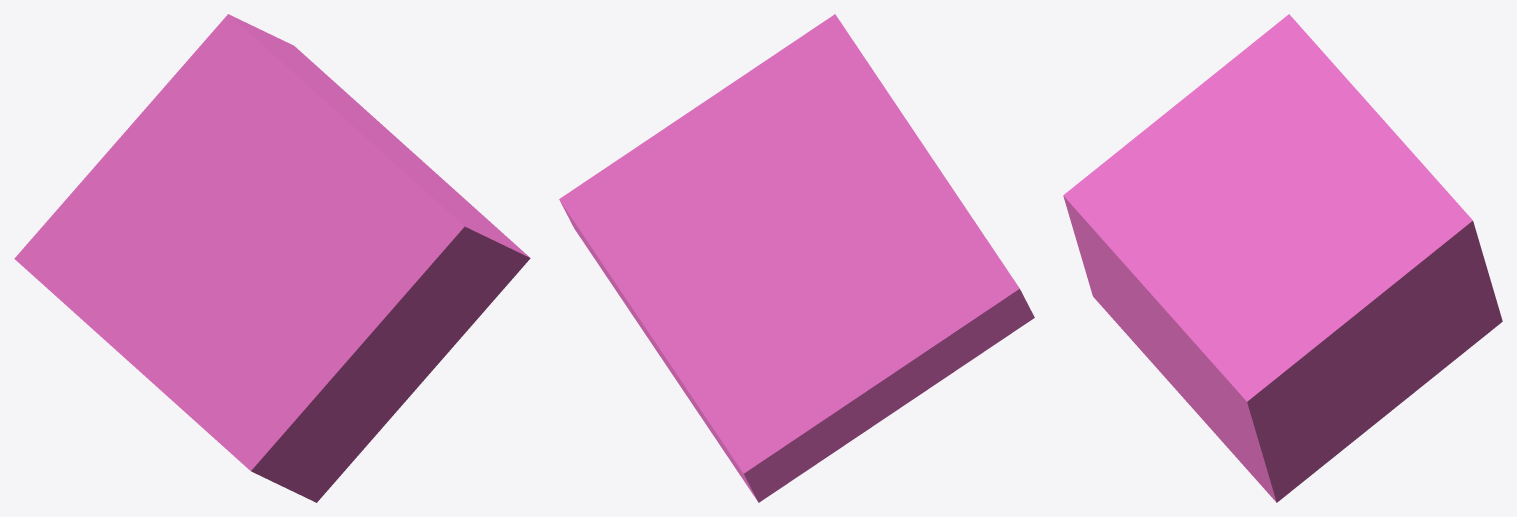
The model's file is InfoExpo_Ninfas.gltf.
3 views of the same model, side by side, from view 1: azimuth 30°, elevation 25°; view 2: azimuth 150°, elevation 25°; view 3: azimuth 270°, elevation 25° (orthographic). The views are drawn at different scales.
Parts seen in each view (by area): view 1: InfoExpo_Ninfas; view 2: InfoExpo_Ninfas; view 3: InfoExpo_Ninfas.
Boxes of the visible parts, x1=… form: InfoExpo_Ninfas: x1=14, y1=14, x2=530, y2=502; InfoExpo_Ninfas: x1=559, y1=14, x2=1034, y2=502; InfoExpo_Ninfas: x1=1063, y1=14, x2=1502, y2=502.
Bounding box in the file's own units: 0.3623 × 0.3661 × 0.3219.
